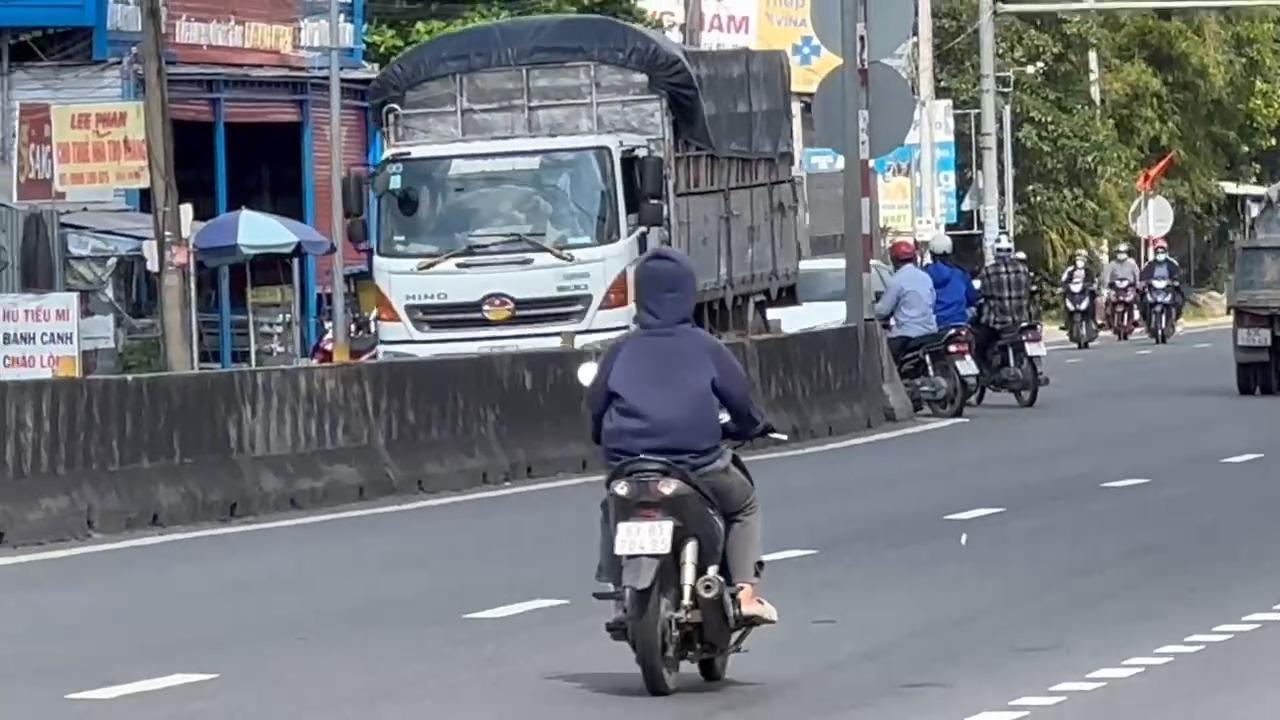bien_so: (612, 518, 674, 556), (1236, 325, 1273, 348)
